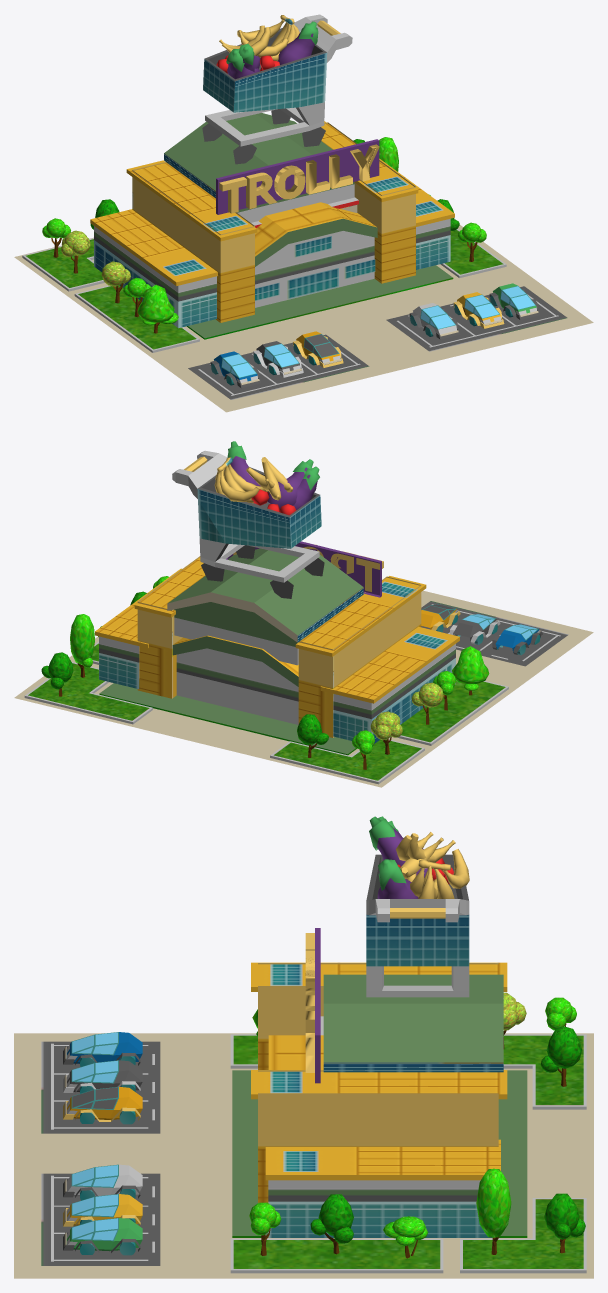
Rendered from grocery_LV3.fbx.
The picture shows the model from 3 angles, top to bottom: view 1: azimuth 30°, elevation 25°; view 2: azimuth 150°, elevation 25°; view 3: azimuth 270°, elevation 25°; orthographic projection. The views are drawn at different scales.
Visible parts, largest first — view 1: GROCERY LEVEL 3; view 2: GROCERY LEVEL 3; view 3: GROCERY LEVEL 3.
Boxes of the visible parts, <box> form: GROCERY LEVEL 3: <box>14,14,593,412</box>; GROCERY LEVEL 3: <box>14,441,593,787</box>; GROCERY LEVEL 3: <box>14,816,593,1278</box>.
Bounding box in the file's own units: 140 × 87.4 × 140.
